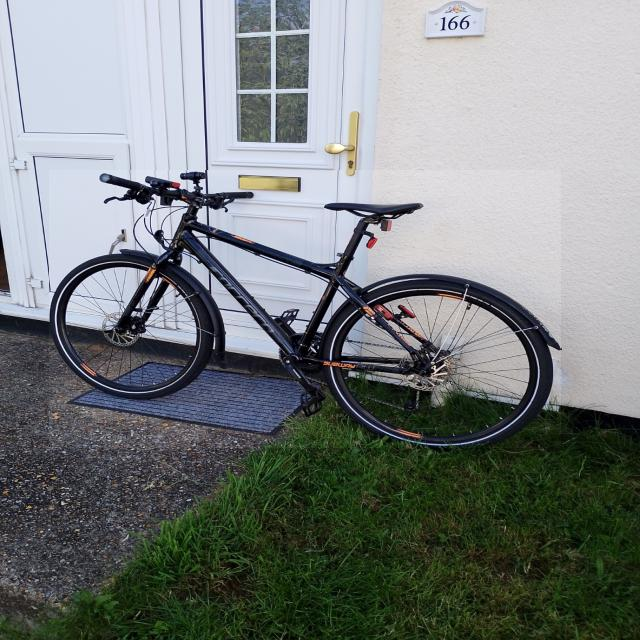bicycle: (49, 170, 562, 448)
